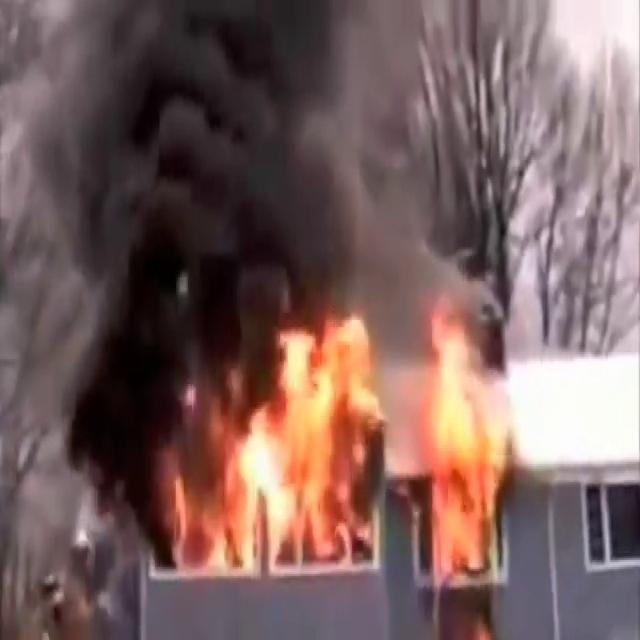Fire: (170, 293, 520, 587)
Smoke: (21, 0, 484, 382)
